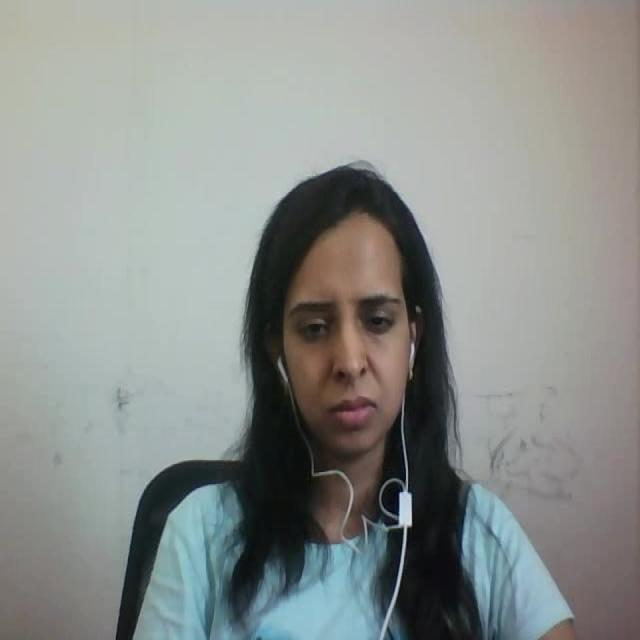Bored: (222, 154, 453, 479)
